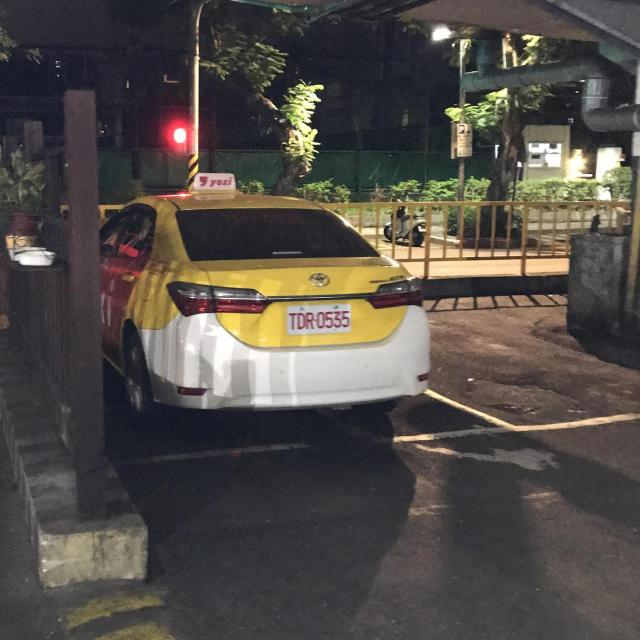WR: (284, 299, 356, 336)
